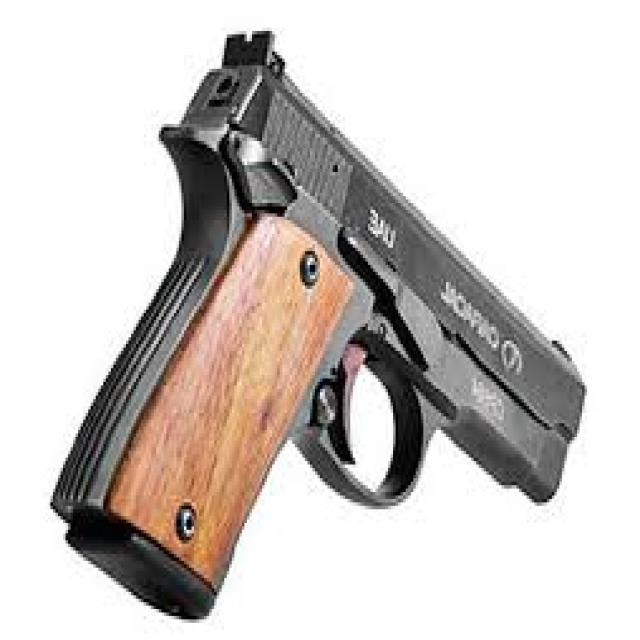Gun: (35, 46, 604, 606)
